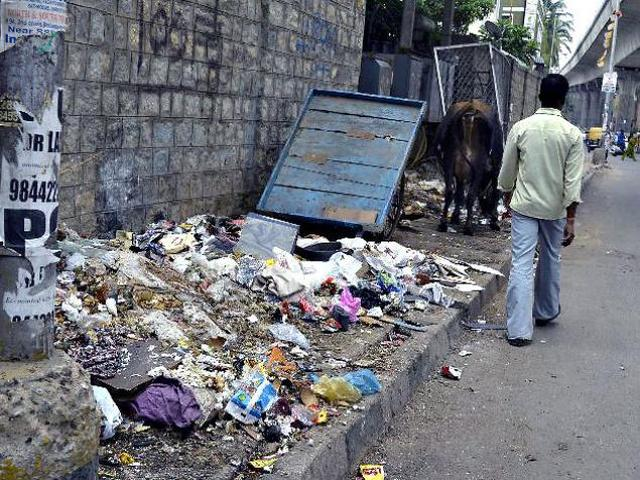garbage: (74, 244, 309, 415), (322, 244, 447, 307)
